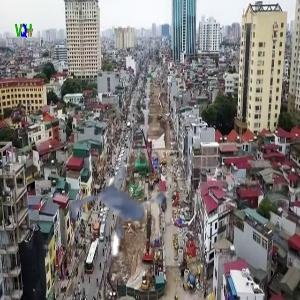drone: (41, 150, 191, 300)
